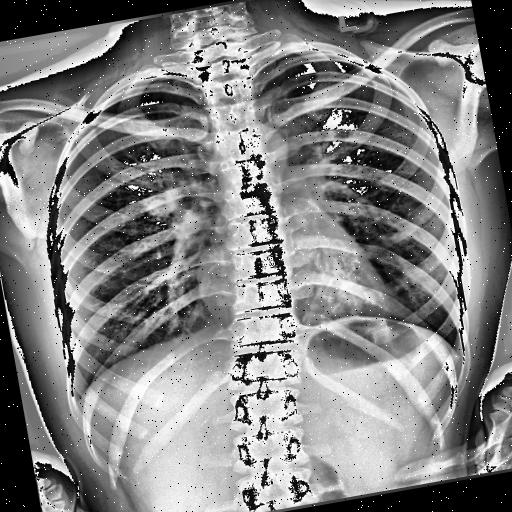8- Nodule-Mass: (144, 196, 174, 218), (146, 196, 174, 218), (146, 197, 175, 218)
9- Other lesion: (144, 196, 174, 218)
